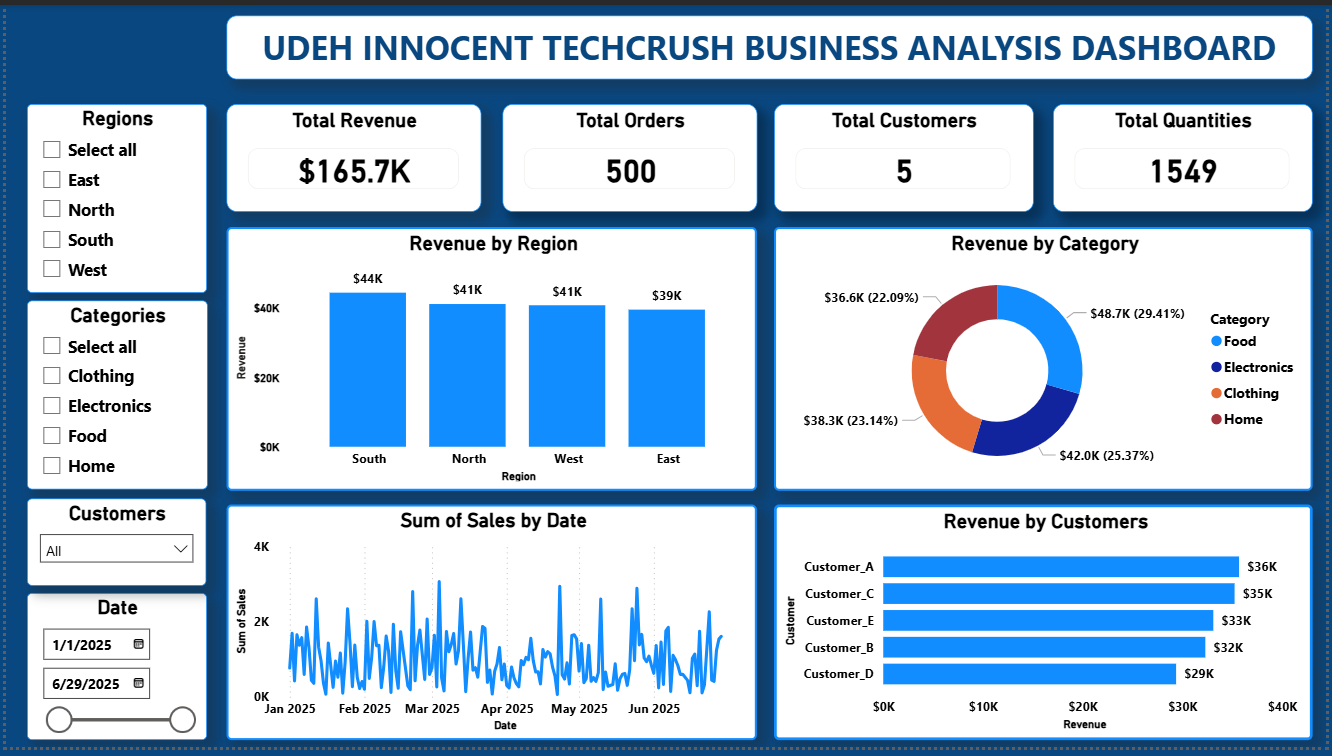

Layout of this report page (visuals, bound fields, positions):
{"tool":"powerbi","page":{"name":"EXECUTIVE SUMMARY","canvas":[1280,720],"ordinal":0},"visuals":[{"type":"cardVisual","title":"Total Orders","fields":{"Data":["TechCrush.Total Orders"]},"box":[481.8,96.1,247.4,104.8],"z":0},{"type":"cardVisual","title":"Total Revenue","fields":{"Data":["TechCrush.Revenue"]},"box":[214,96.1,247.4,104.8],"z":1000},{"type":"cardVisual","title":"Total Customers","fields":{"Data":["TechCrush.Total Customers"]},"box":[745.2,96.1,251.8,104.8],"z":2000},{"type":"cardVisual","title":"Total Quantities","fields":{"Data":["TechCrush.Total Quantities"]},"box":[1016,96.1,251.8,104.8],"z":3000},{"type":"clusteredColumnChart","fields":{"Y":["TechCrush.Revenue"],"Category":["TechCrush.Region"]},"box":[213.5,215,514.8,255.9],"z":4000},{"type":"donutChart","fields":{"Category":["TechCrush.Category"],"Y":["TechCrush.Revenue"]},"box":[745,215,522.4,255.9],"z":5000},{"type":"lineChart","fields":{"Y":["Sum(TechCrush.Sales)"],"Category":["TechCrush.Date"]},"box":[213.5,484.5,514.8,228.6],"z":6000},{"type":"clusteredBarChart","title":"Revenue by Customers","fields":{"Y":["TechCrush.Revenue"],"Category":["TechCrush.Customer"]},"box":[745,484.5,522.4,228.6],"z":7000},{"type":"slicer","title":"Regions","fields":{"Values":["TechCrush.Region"]},"box":[20.4,96.1,174.7,183.4],"z":8000},{"type":"slicer","title":"Categories","fields":{"Values":["TechCrush.Category"]},"box":[19.7,286.2,175.6,183.2],"z":9000},{"type":"slicer","title":"Date","fields":{"Values":["TechCrush.Date"]},"box":[20.4,570.6,174.7,142.6],"z":10000},{"type":"textbox","box":[213.5,10.6,1053.9,62.1],"z":11000},{"type":"slicer","title":"Customers","fields":{"Values":["TechCrush.Customer"]},"box":[19.7,478.5,174.1,84.8],"z":12001}]}

Visuals, with their boxes in screenshot pixels (x1, y1, x2, y2), scaled from the page's 1280x720 canvas onto the 1332x756 screenshot:
"Total Orders" cardVisual: crop(501, 101, 759, 211)
"Total Revenue" cardVisual: crop(223, 101, 480, 211)
"Total Customers" cardVisual: crop(775, 101, 1038, 211)
"Total Quantities" cardVisual: crop(1057, 101, 1319, 211)
clusteredColumnChart - TechCrush.Revenue x TechCrush.Region: crop(222, 226, 758, 494)
donutChart - TechCrush.Category x TechCrush.Revenue: crop(775, 226, 1319, 494)
lineChart - Sum(TechCrush.Sales) x TechCrush.Date: crop(222, 509, 758, 749)
"Revenue by Customers" clusteredBarChart: crop(775, 509, 1319, 749)
"Regions" slicer: crop(21, 101, 203, 293)
"Categories" slicer: crop(21, 301, 203, 493)
"Date" slicer: crop(21, 599, 203, 749)
textbox: crop(222, 11, 1319, 76)
"Customers" slicer: crop(21, 502, 202, 591)
